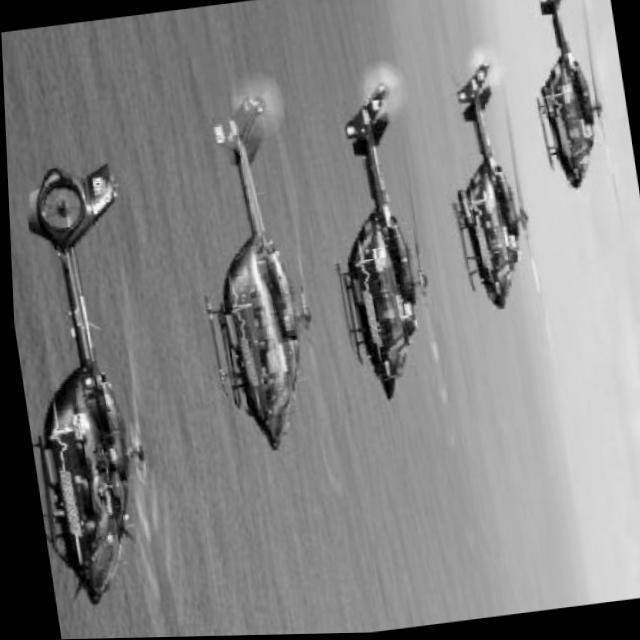helikopter: (148, 46, 357, 524), (5, 130, 190, 629), (295, 44, 466, 453), (417, 21, 555, 363), (503, 0, 632, 247)
